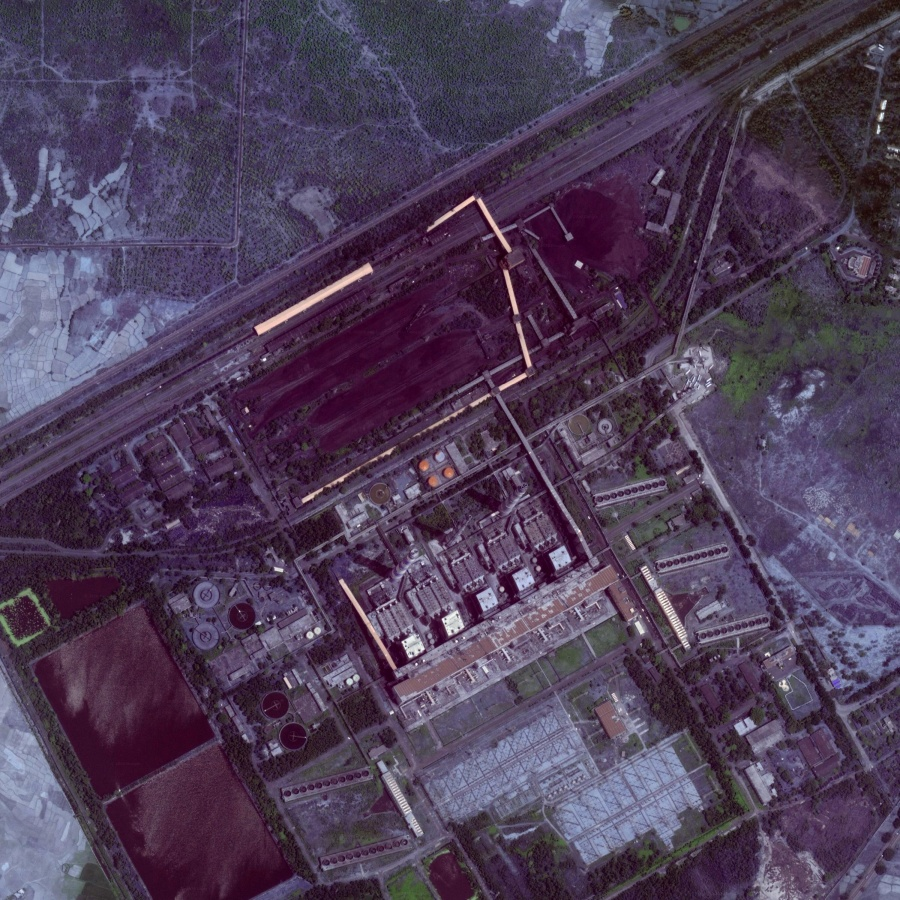PowerPlant: (219, 145, 643, 522)
